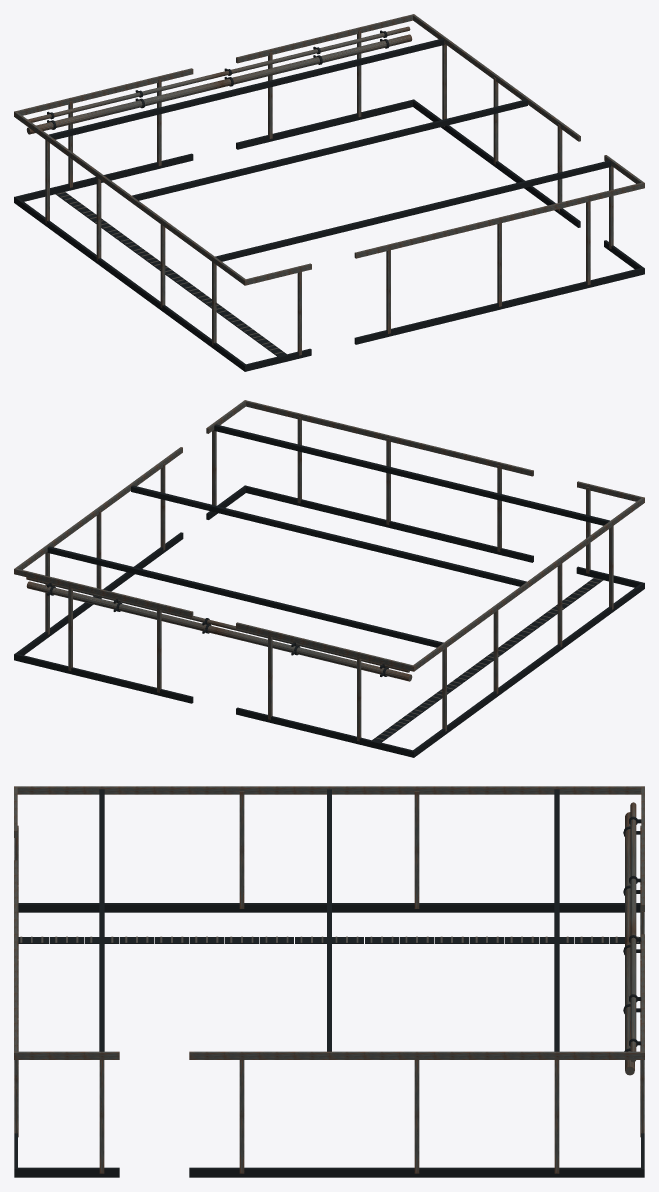
The model's file is ServiceStructure04.obj.
3 views of the same model, one above another, from view 1: azimuth 30°, elevation 25°; view 2: azimuth 150°, elevation 25°; view 3: azimuth 270°, elevation 25° (orthographic). The views are drawn at different scales.
Visible parts, largest first — view 1: ServiceStructure04; view 2: ServiceStructure04; view 3: ServiceStructure04.
Part boxes in pixels (x1,y1,x2,y2): ServiceStructure04: (14, 14, 644, 371); ServiceStructure04: (14, 400, 644, 757); ServiceStructure04: (14, 786, 644, 1177).
Size of the model in its own units: 18.02 by 3.93 by 18.02.
Materials: 3 (2 with a texture image).
